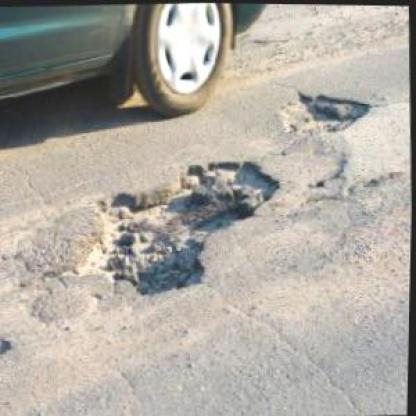pothole: (75, 150, 287, 298), (279, 85, 374, 133)
